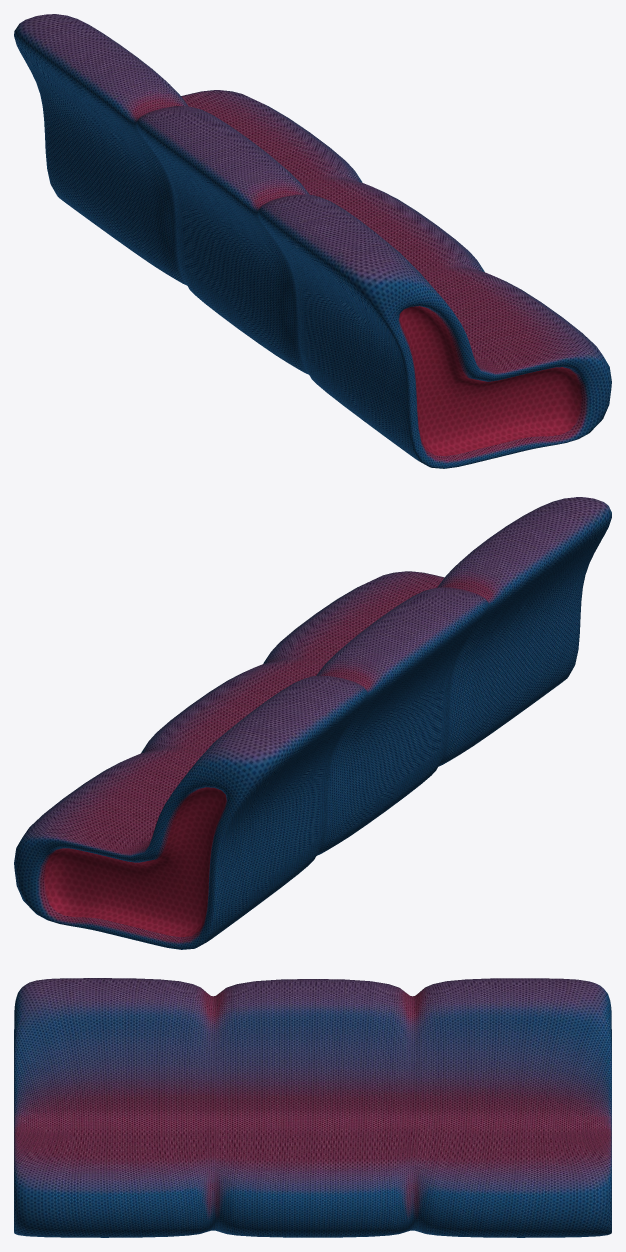
Rendered from couch.glb.
3 renders of one model, top to bottom at view 1: azimuth 30°, elevation 25°; view 2: azimuth 150°, elevation 25°; view 3: azimuth 270°, elevation 25°, orthographic. The views are drawn at different scales.
Parts seen in each view (by area): view 1: BestSofa; view 2: BestSofa; view 3: BestSofa.
Part boxes in pixels (x1,y1,x2,y2): BestSofa: (14,14,611,468); BestSofa: (14,497,611,949); BestSofa: (14,978,611,1237).
Size of the model in its own units: 0.8358 by 0.6417 by 2.
1 material, 1 textured.
